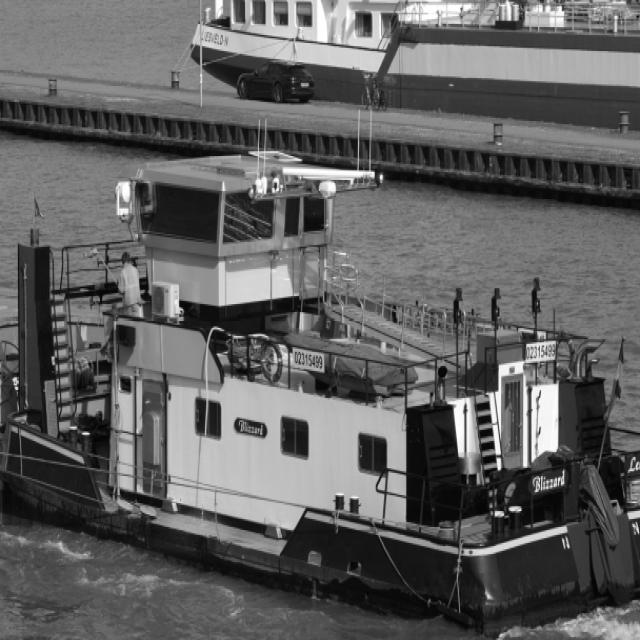tugboat: (1, 119, 640, 640)
